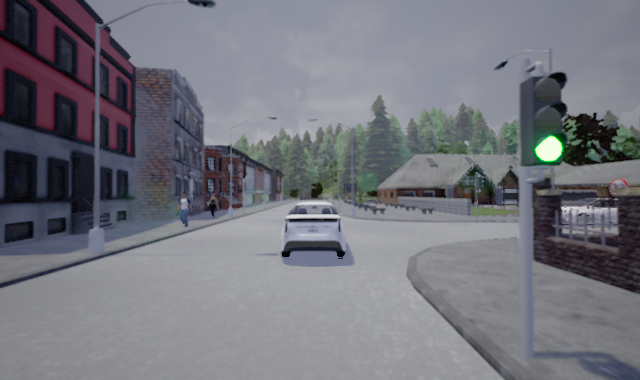pedestrian: (174, 191, 193, 227), (207, 192, 219, 219)
traffic_light: (518, 71, 567, 167)
traffic_sign: (608, 177, 630, 199)
vehicle: (280, 203, 346, 259), (548, 197, 639, 227)
